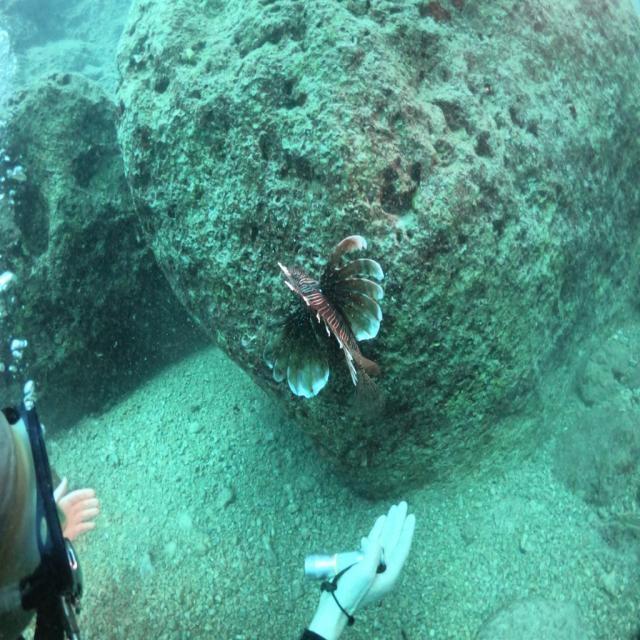Aslan Baligi: (264, 235, 399, 410)
